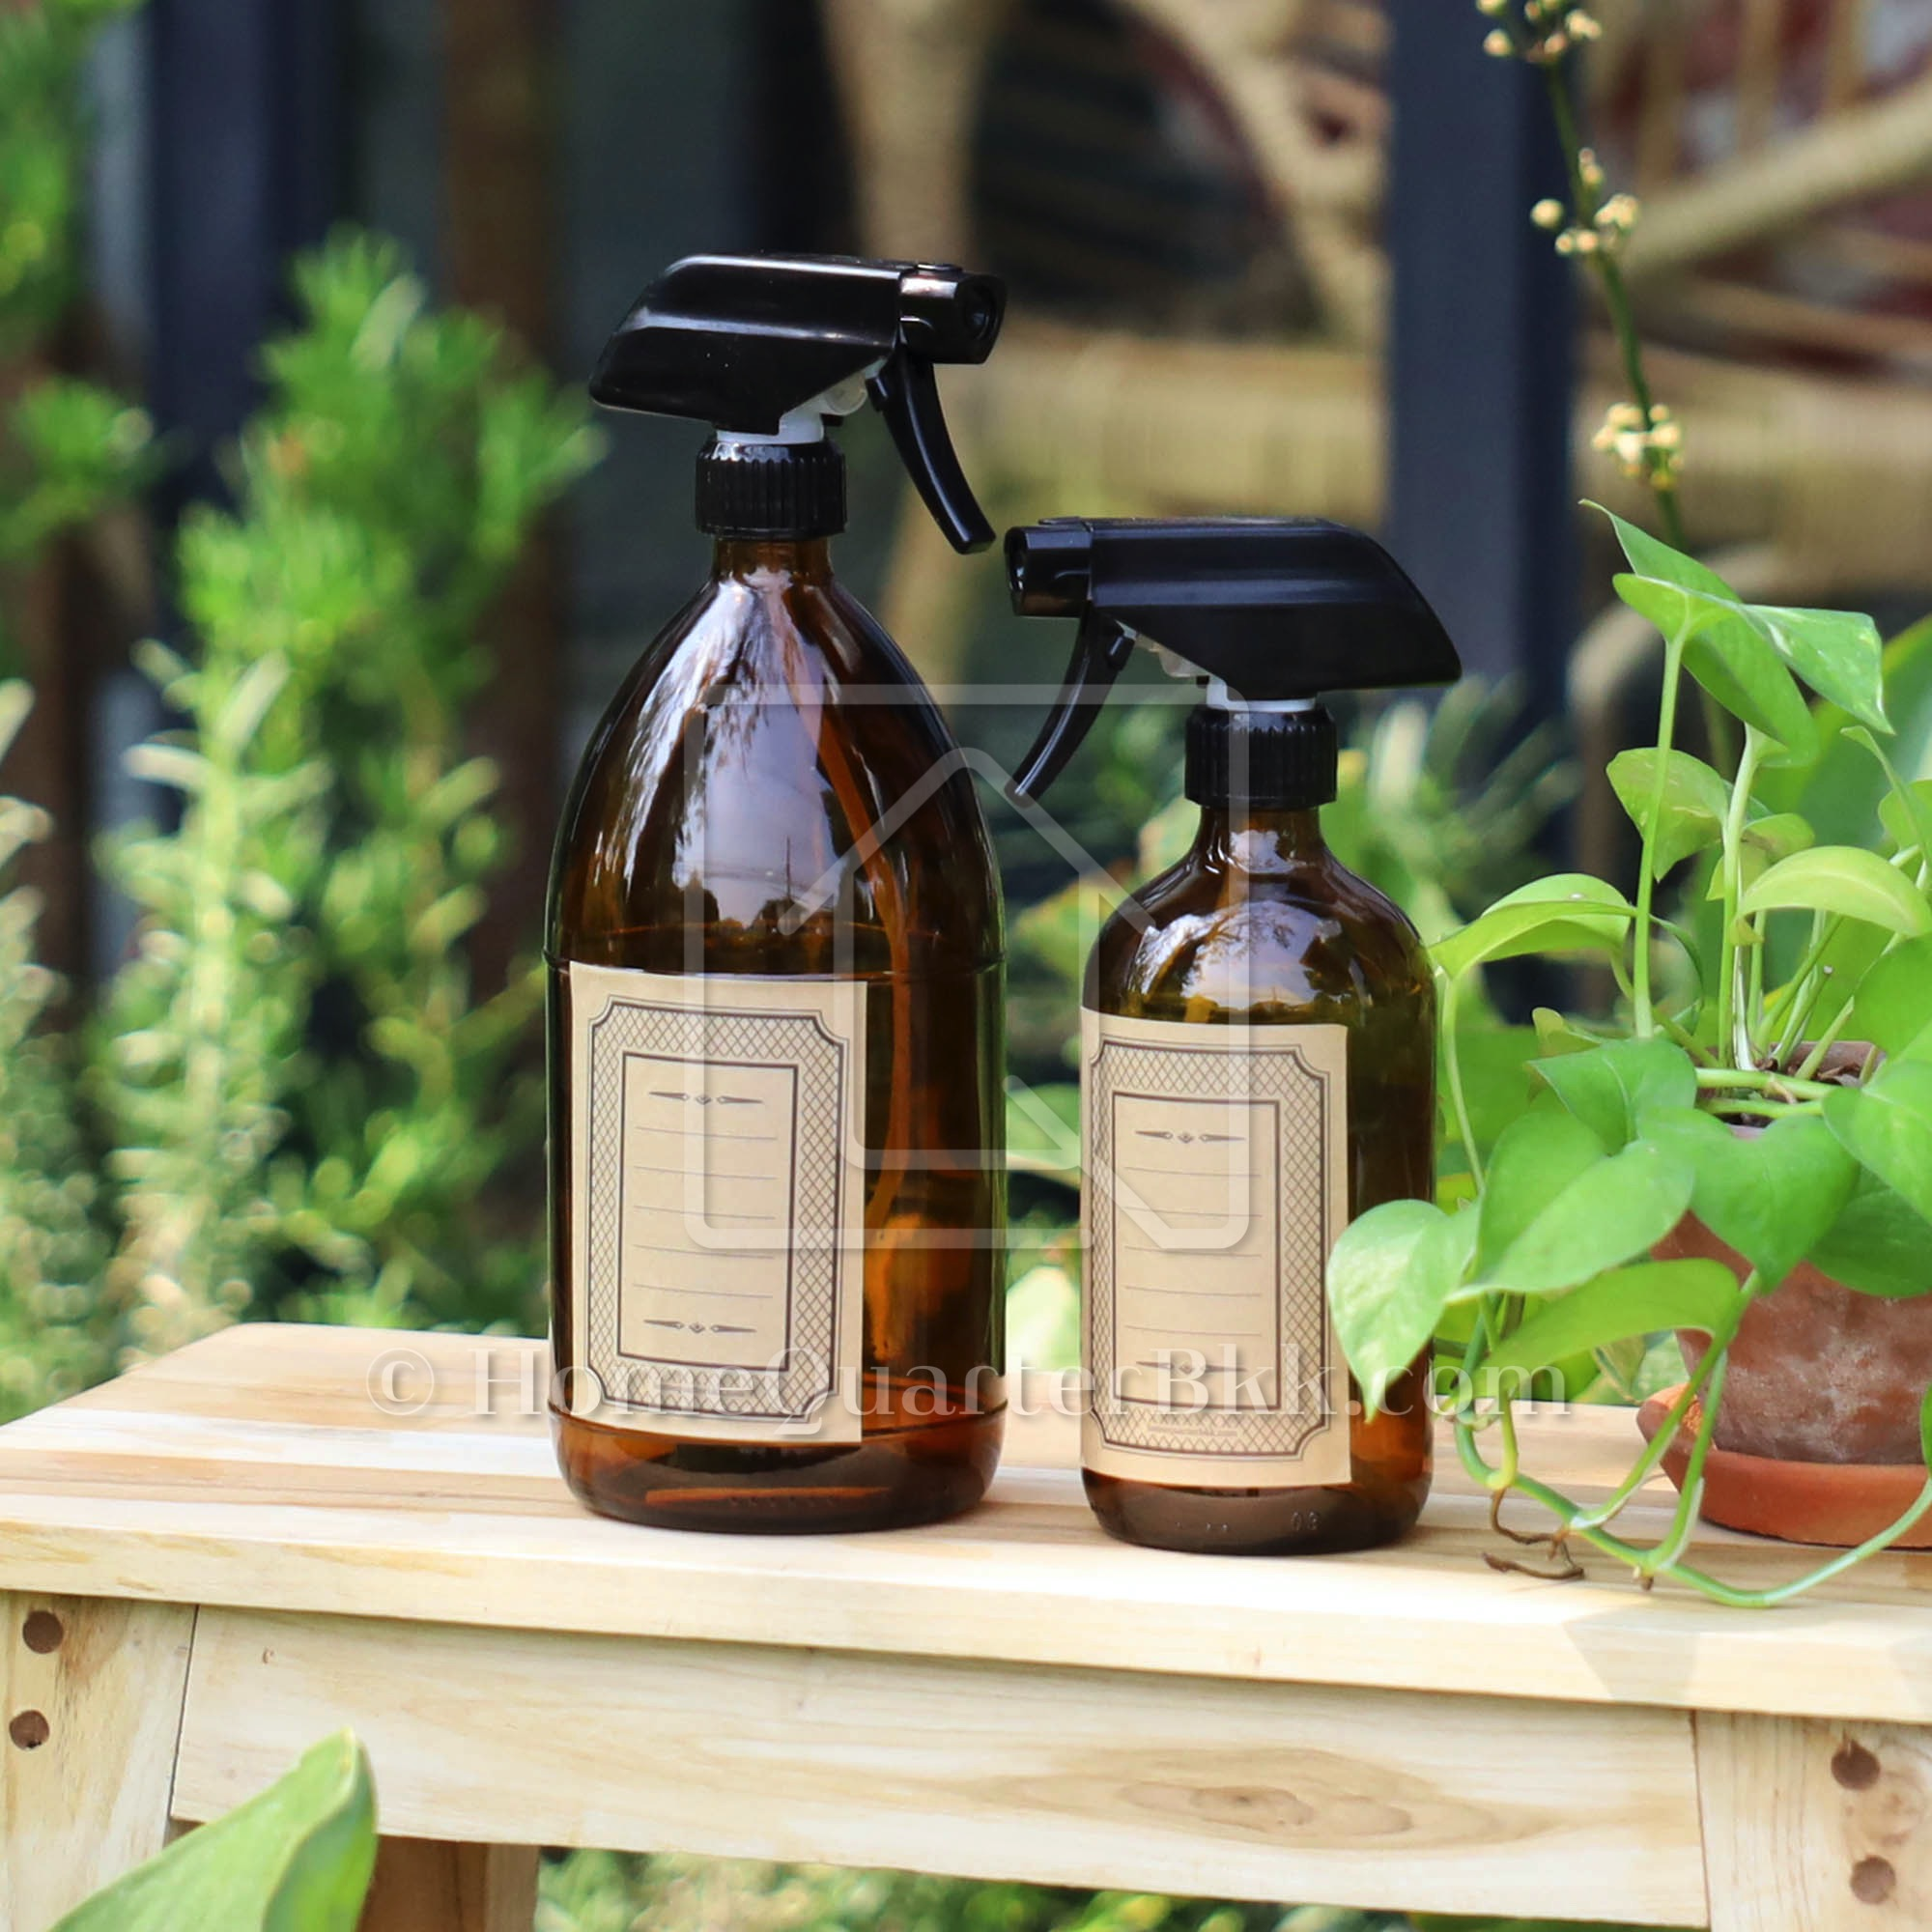glass_bottle: (517, 410, 1017, 1562), (1046, 660, 1474, 1571)
